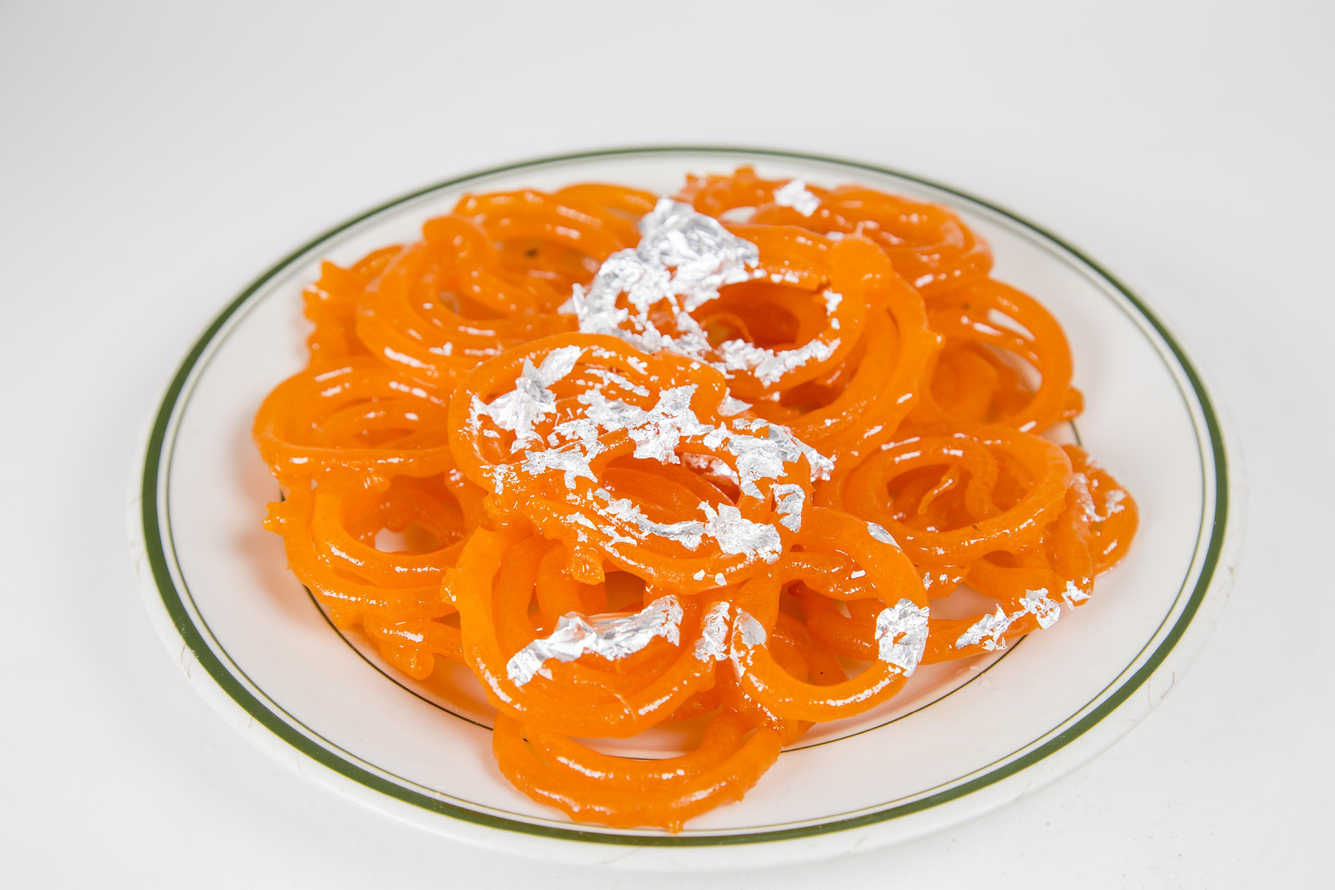Jalebi: (255, 163, 1140, 833)
